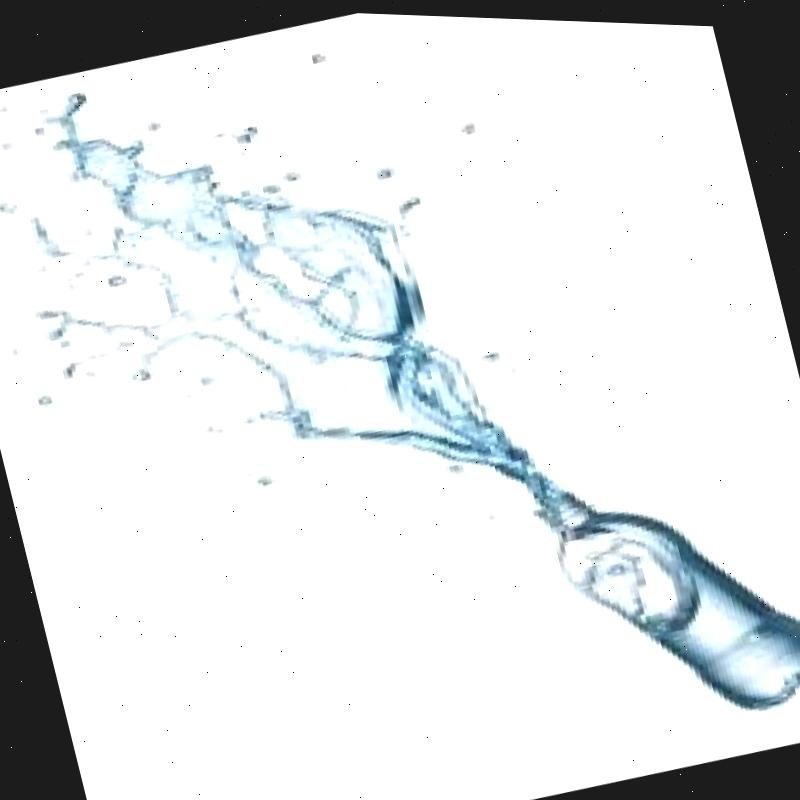botella: (526, 428, 800, 745)
